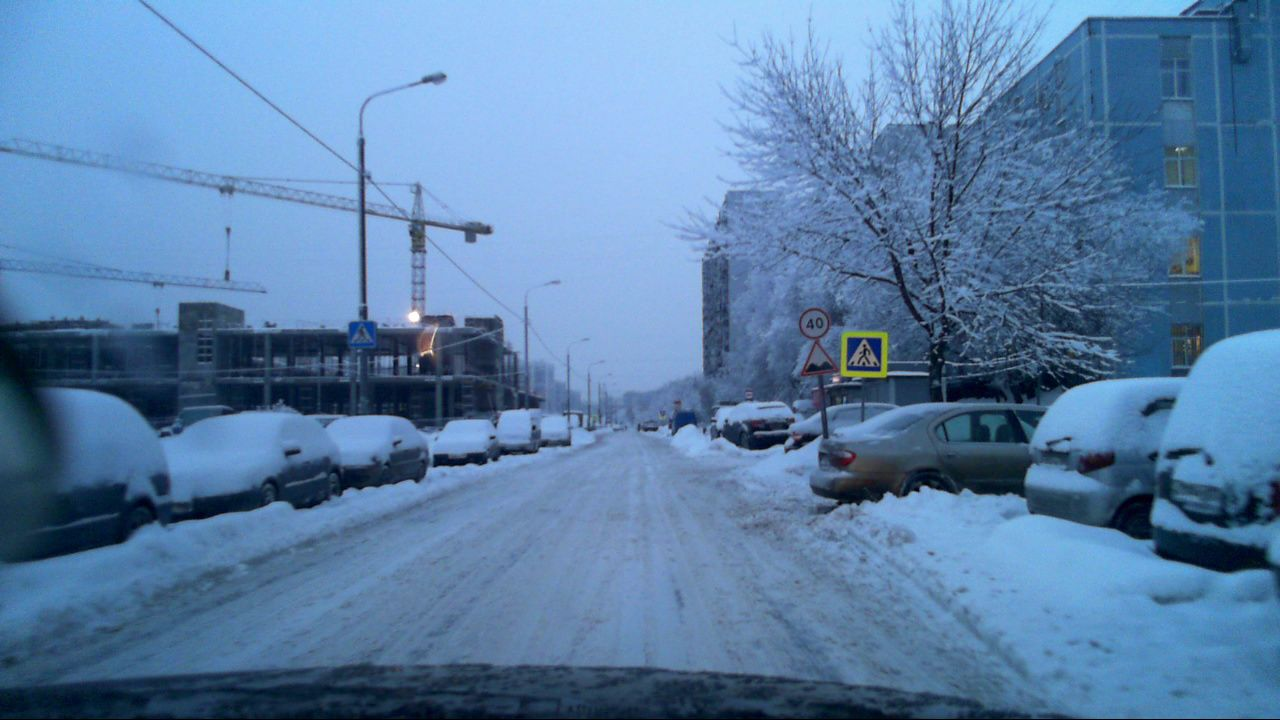speed_warning_40: (797, 307, 831, 338)
